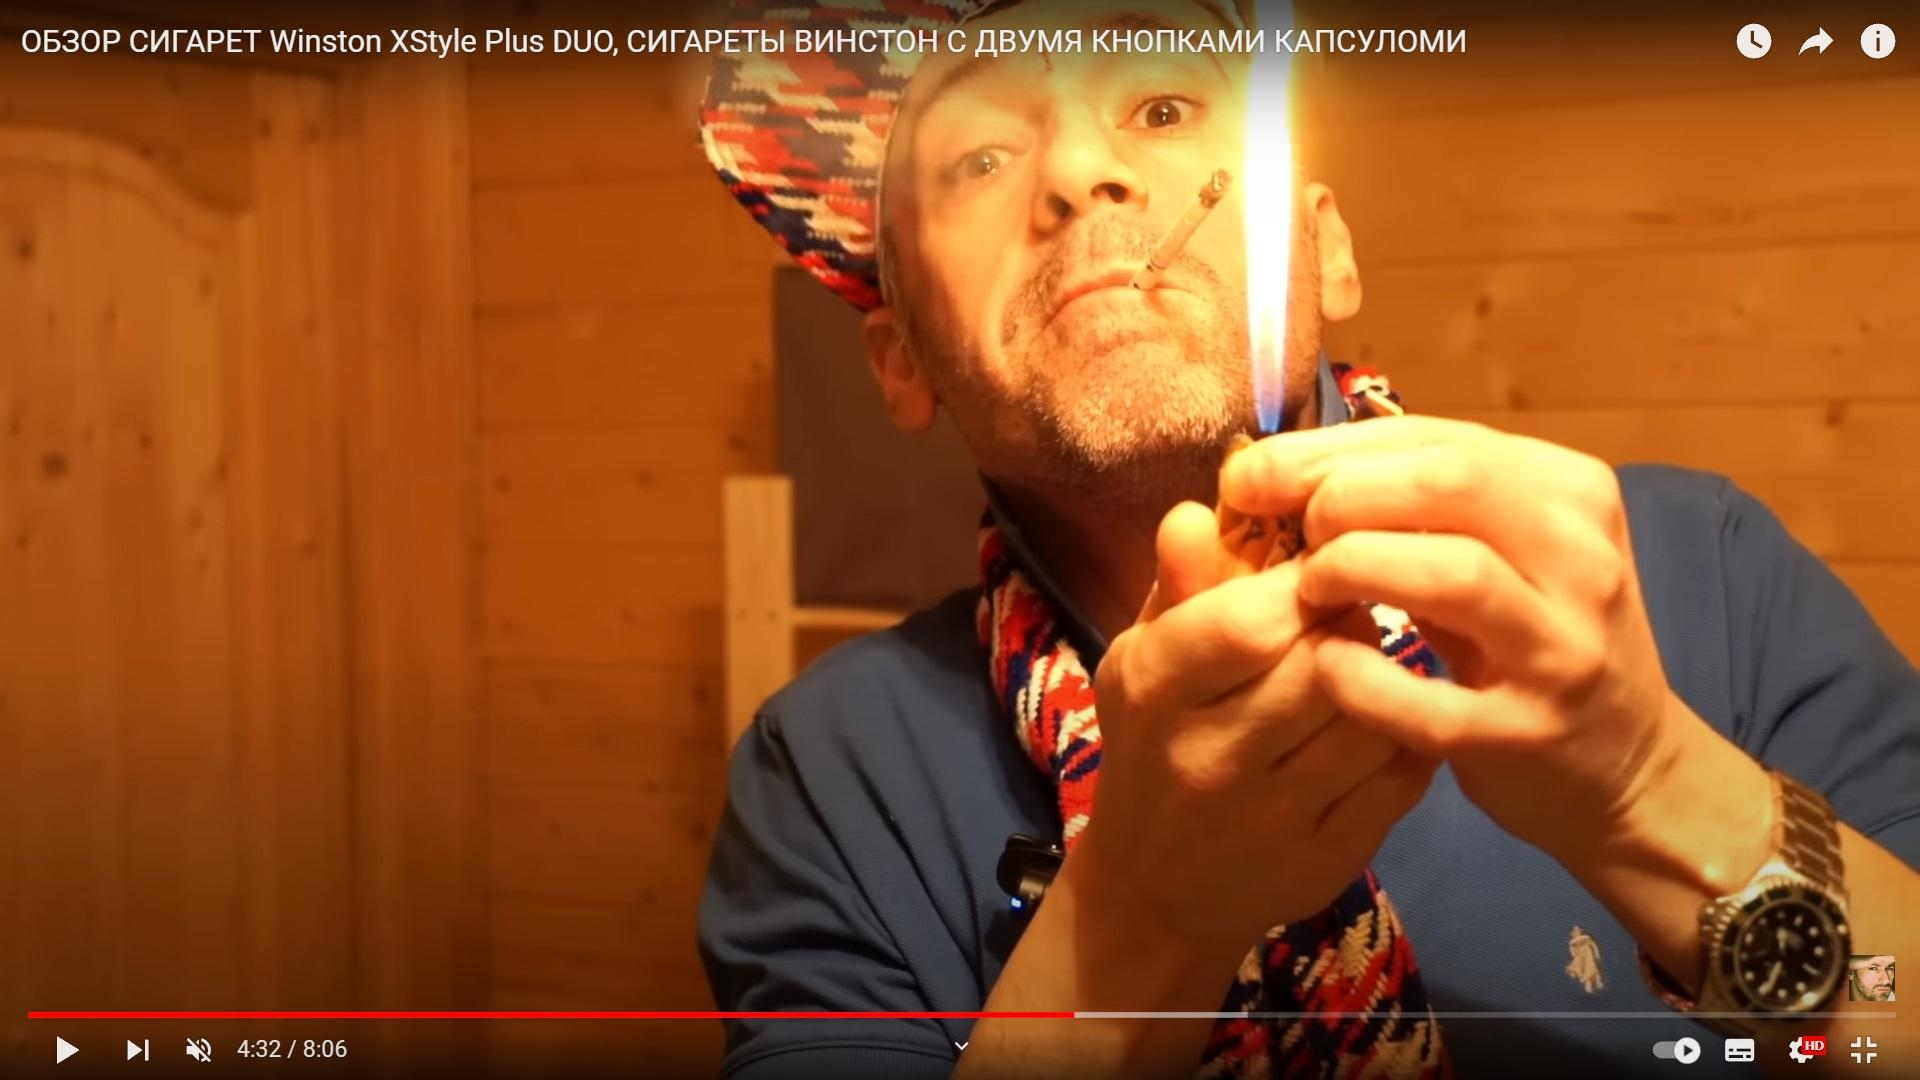cigarette: (1129, 167, 1233, 290)
